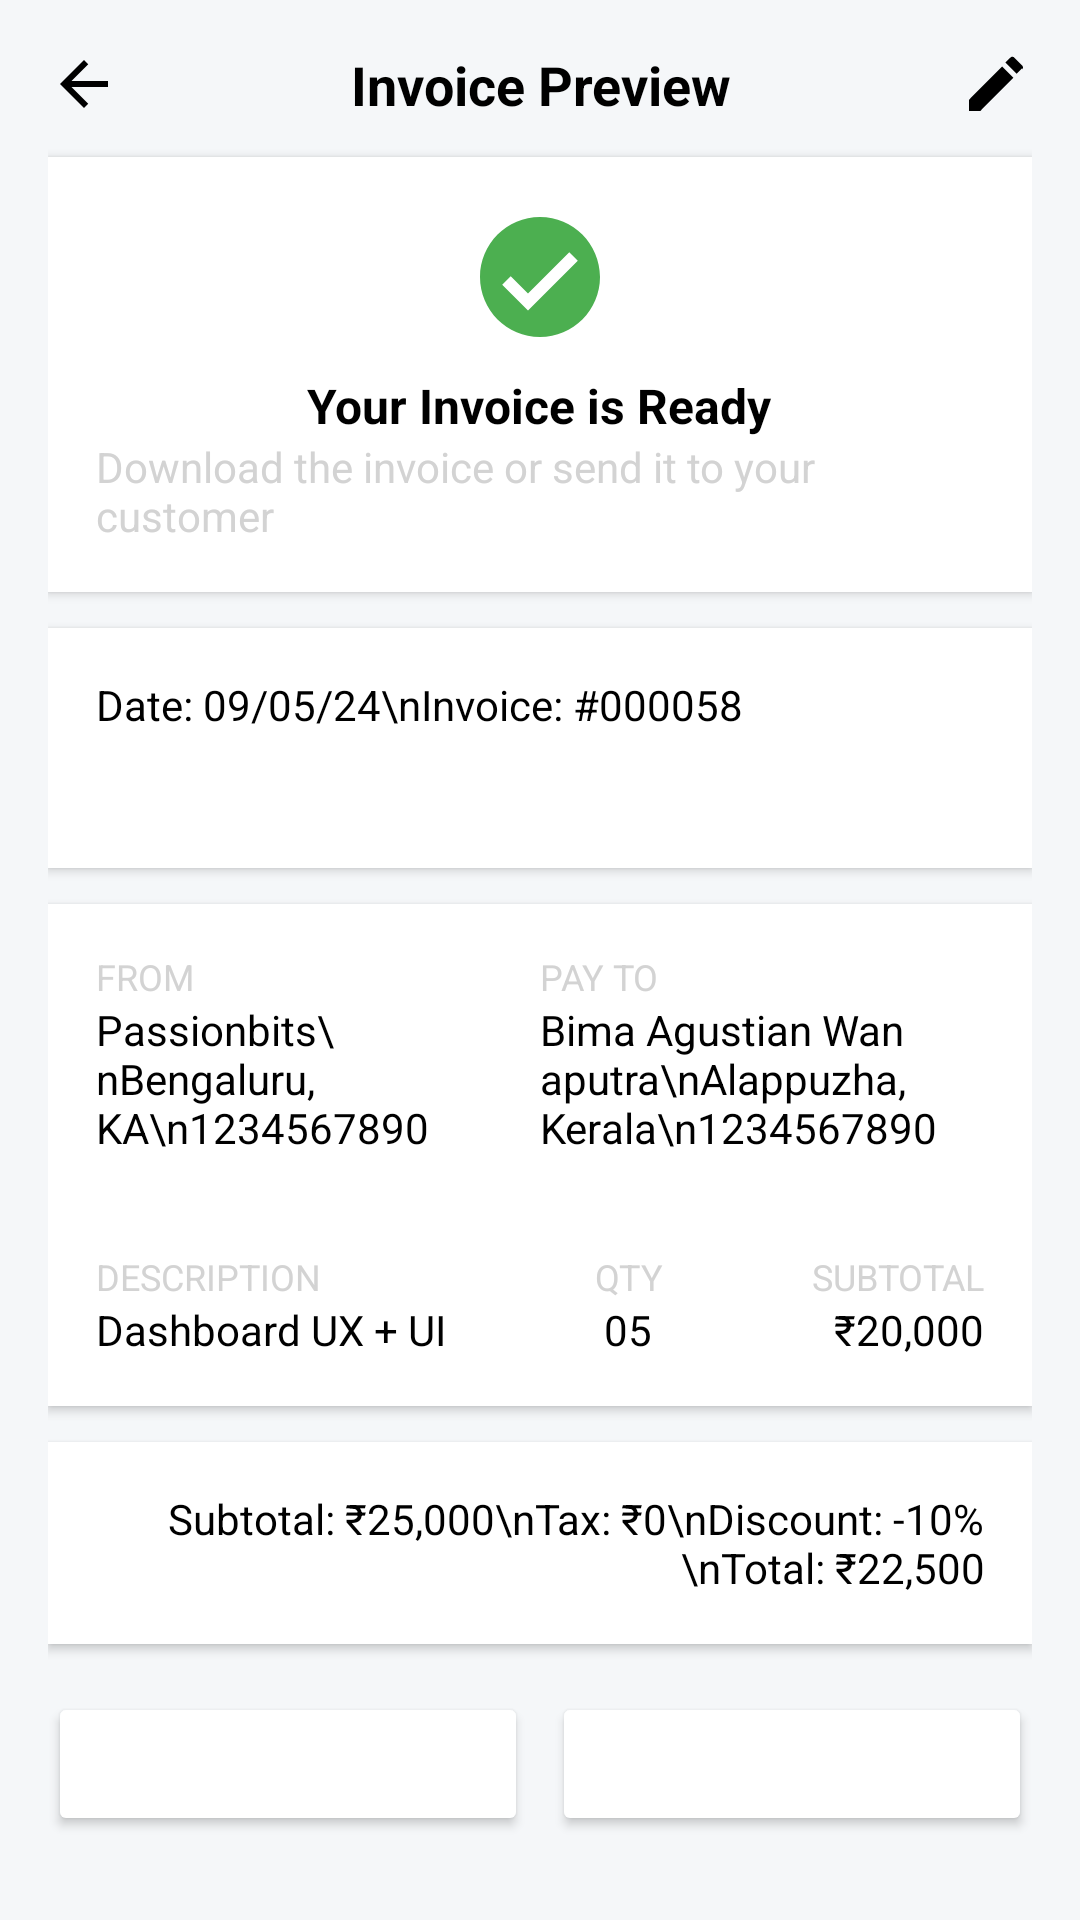

Named icons in this screenshot (1080w x 1920h) and their bounding boxes, (x1, y1, x2, y2):
Back: (60, 60, 108, 108)
Edit: (969, 56, 1023, 111)
